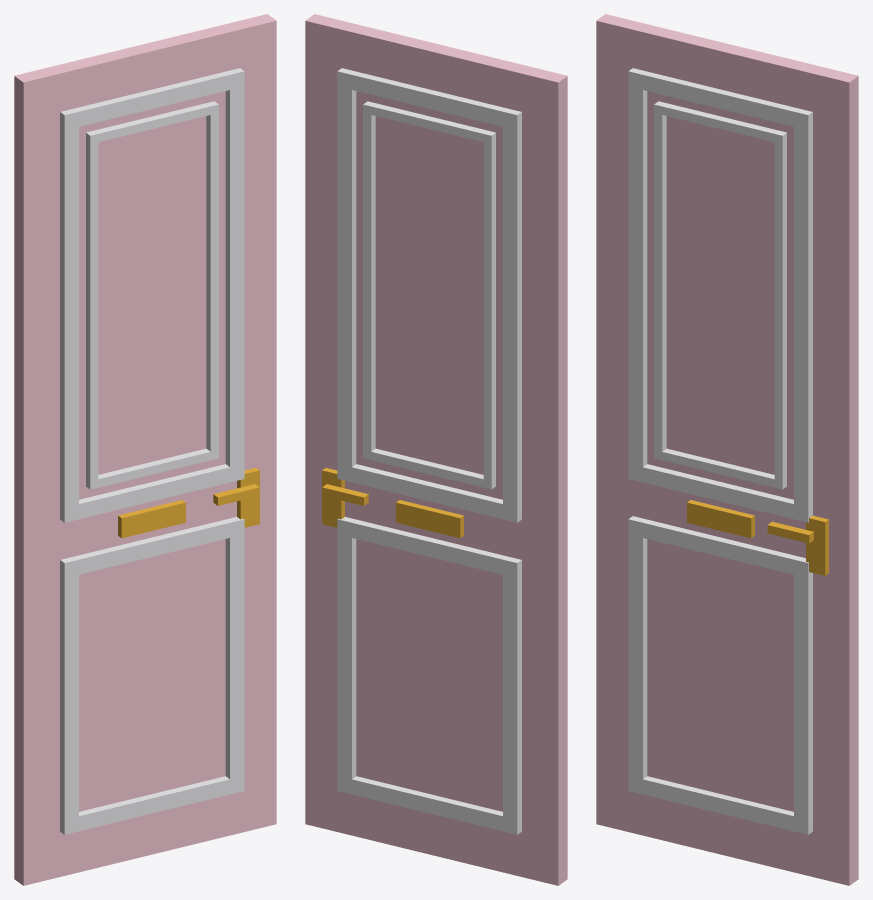
Rendered from SM_Door_girls_inner_80x240.fbx.
3 views of the same model, side by side, from view 1: azimuth 30°, elevation 25°; view 2: azimuth 150°, elevation 25°; view 3: azimuth 330°, elevation 25° (orthographic).
Visible parts, largest first — view 1: SM_Door_girls_inner_80x240; view 2: SM_Door_girls_inner_80x240; view 3: SM_Door_girls_inner_80x240.
Boxes of the visible parts, x1=… form: SM_Door_girls_inner_80x240: x1=14, y1=14, x2=276, y2=885; SM_Door_girls_inner_80x240: x1=305, y1=14, x2=567, y2=885; SM_Door_girls_inner_80x240: x1=596, y1=14, x2=858, y2=885.
Size of the model in its own units: 0.788 by 2.39 by 0.175.
